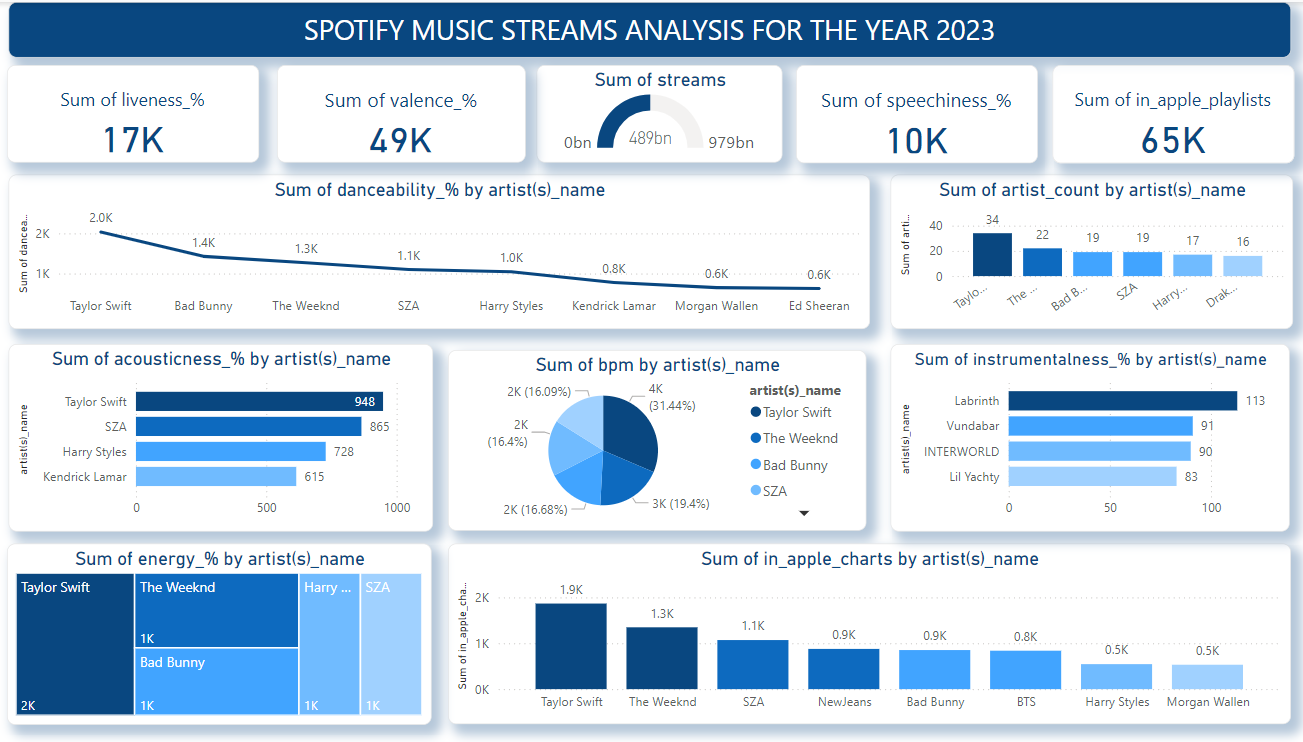

Layout of this report page (visuals, bound fields, positions):
{"tool":"powerbi","page":{"name":"Page 1","canvas":[1280,720],"ordinal":0},"visuals":[{"type":"textbox","box":[21.8,0,1244.5,53.9],"z":0},{"type":"lineChart","fields":{"Category":["spotify-2023 (1)(1).artist(s)_name"],"Y":["spotify-2023 (1)(1).danceability_%"]},"box":[21.2,168.1,835.8,149.9],"z":1},{"type":"barChart","fields":{"Category":["spotify-2023 (1)(1).artist(s)_name"],"Y":["spotify-2023 (1)(1).acousticness_%"]},"box":[21.2,331.6,411.9,181.7],"z":2},{"type":"clusteredColumnChart","fields":{"Category":["spotify-2023 (1)(1).artist(s)_name"],"Y":["spotify-2023 (1)(1).artist_count"]},"box":[878.2,168.1,390.7,149.9],"z":3},{"type":"pieChart","fields":{"Category":["spotify-2023 (1)(1).artist(s)_name"],"Y":["spotify-2023 (1)(1).bpm"]},"box":[448.2,337.7,405.8,175.6],"z":4},{"type":"columnChart","fields":{"Category":["spotify-2023 (1)(1).artist(s)_name"],"Y":["spotify-2023 (1)(1).in_apple_charts"]},"box":[448.2,525.4,817.7,175.6],"z":5},{"type":"barChart","fields":{"Category":["spotify-2023 (1)(1).artist(s)_name"],"Y":["spotify-2023 (1)(1).instrumentalness_%"]},"box":[878.2,331.6,387.6,181.7],"z":6},{"type":"treemap","fields":{"Group":["spotify-2023 (1)(1).artist(s)_name"],"Values":["spotify-2023 (1)(1).energy_%"]},"box":[21,525,412,176],"z":7},{"type":"gauge","fields":{"Y":["spotify-2023 (1)(1).streams"]},"box":[534.2,61.1,238.7,94.6],"z":8},{"type":"cardVisual","fields":{"Data":["spotify-2023 (1)(1).liveness_%"]},"box":[20.4,61.1,244.5,94.6],"z":9},{"type":"cardVisual","fields":{"Data":["spotify-2023 (1)(1).valence_%"]},"box":[282.4,61.1,241.6,94.6],"z":10},{"type":"cardVisual","fields":{"Data":["spotify-2023 (1)(1).speechiness_%"]},"box":[785.9,60.6,234.7,95.4],"z":11},{"type":"cardVisual","fields":{"Data":["spotify-2023 (1)(1).in_apple_playlists"]},"box":[1034.2,60.6,234.7,95.4],"z":12}]}

Visuals, with their boxes in screenshot pixels (x1, y1, x2, y2), scaled from the page's 1280x720 canvas onto the 1303x742 screenshot:
textbox: pyautogui.locateOnScreen(22, 0, 1289, 56)
lineChart - spotify-2023 (1)(1).artist(s)_name x spotify-2023 (1)(1).danceability_%: pyautogui.locateOnScreen(22, 173, 872, 328)
barChart - spotify-2023 (1)(1).artist(s)_name x spotify-2023 (1)(1).acousticness_%: pyautogui.locateOnScreen(22, 342, 441, 529)
clusteredColumnChart - spotify-2023 (1)(1).artist(s)_name x spotify-2023 (1)(1).artist_count: pyautogui.locateOnScreen(894, 173, 1292, 328)
pieChart - spotify-2023 (1)(1).artist(s)_name x spotify-2023 (1)(1).bpm: pyautogui.locateOnScreen(456, 348, 869, 529)
columnChart - spotify-2023 (1)(1).artist(s)_name x spotify-2023 (1)(1).in_apple_charts: pyautogui.locateOnScreen(456, 541, 1289, 722)
barChart - spotify-2023 (1)(1).artist(s)_name x spotify-2023 (1)(1).instrumentalness_%: pyautogui.locateOnScreen(894, 342, 1289, 529)
treemap - spotify-2023 (1)(1).artist(s)_name x spotify-2023 (1)(1).energy_%: pyautogui.locateOnScreen(21, 541, 441, 722)
gauge - spotify-2023 (1)(1).streams: pyautogui.locateOnScreen(544, 63, 787, 160)
cardVisual - spotify-2023 (1)(1).liveness_%: pyautogui.locateOnScreen(21, 63, 270, 160)
cardVisual - spotify-2023 (1)(1).valence_%: pyautogui.locateOnScreen(287, 63, 533, 160)
cardVisual - spotify-2023 (1)(1).speechiness_%: pyautogui.locateOnScreen(800, 62, 1039, 161)
cardVisual - spotify-2023 (1)(1).in_apple_playlists: pyautogui.locateOnScreen(1053, 62, 1292, 161)
